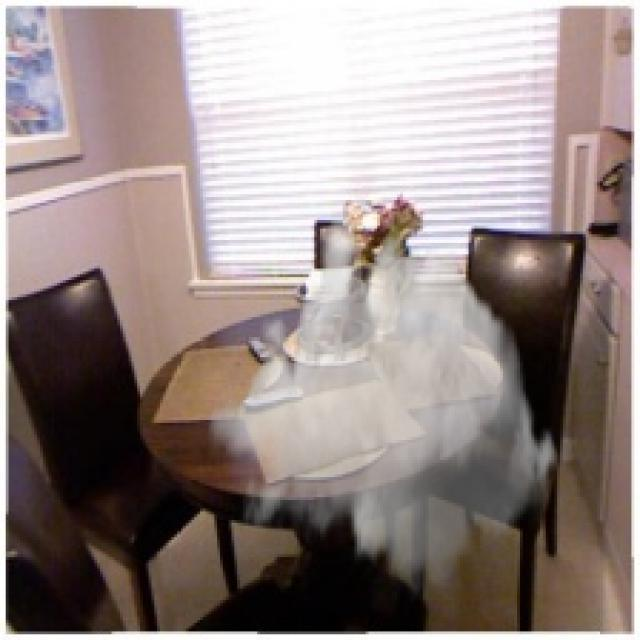Smoke: (205, 206, 560, 603)
